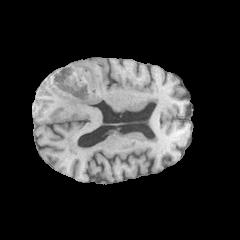glioma: (37, 62, 103, 123)
